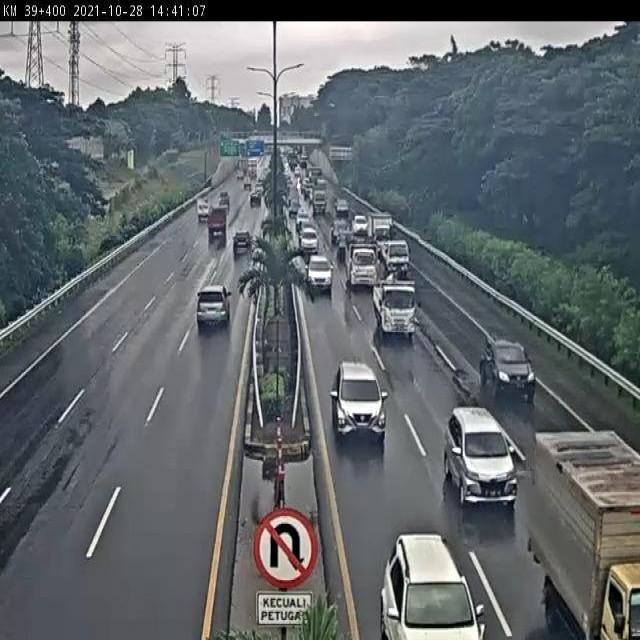car: (443, 406, 519, 510), (330, 359, 387, 440), (478, 333, 537, 399), (305, 253, 332, 290), (230, 228, 252, 257)
mid truck: (194, 283, 232, 329)
truck-m-: (372, 278, 416, 334), (342, 239, 377, 289)
truck-s-: (379, 236, 410, 275)
